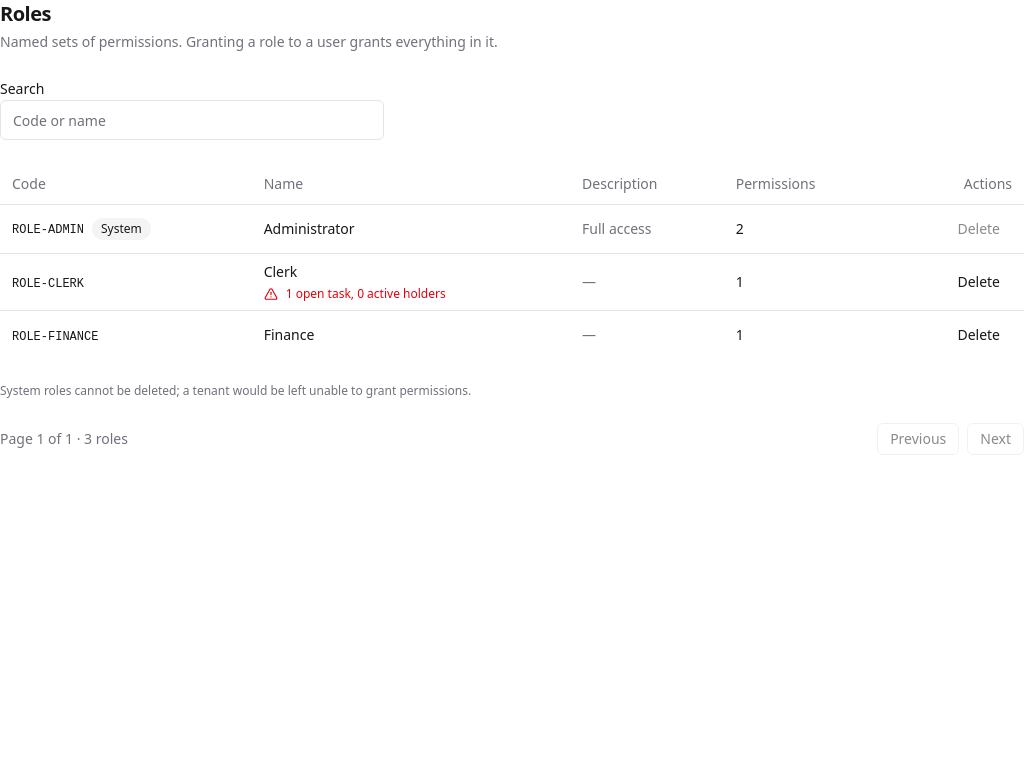
RoleListPage › a role nobody holds while open tasks need it (#508) › reads the roles again after a reassign, and the notice goes
The width and height of the screenshot is (1024, 768).
Click the button with test id "role-stranded-tasks-open" at (366, 294), box top-left (286, 286), bottom-right (446, 302)
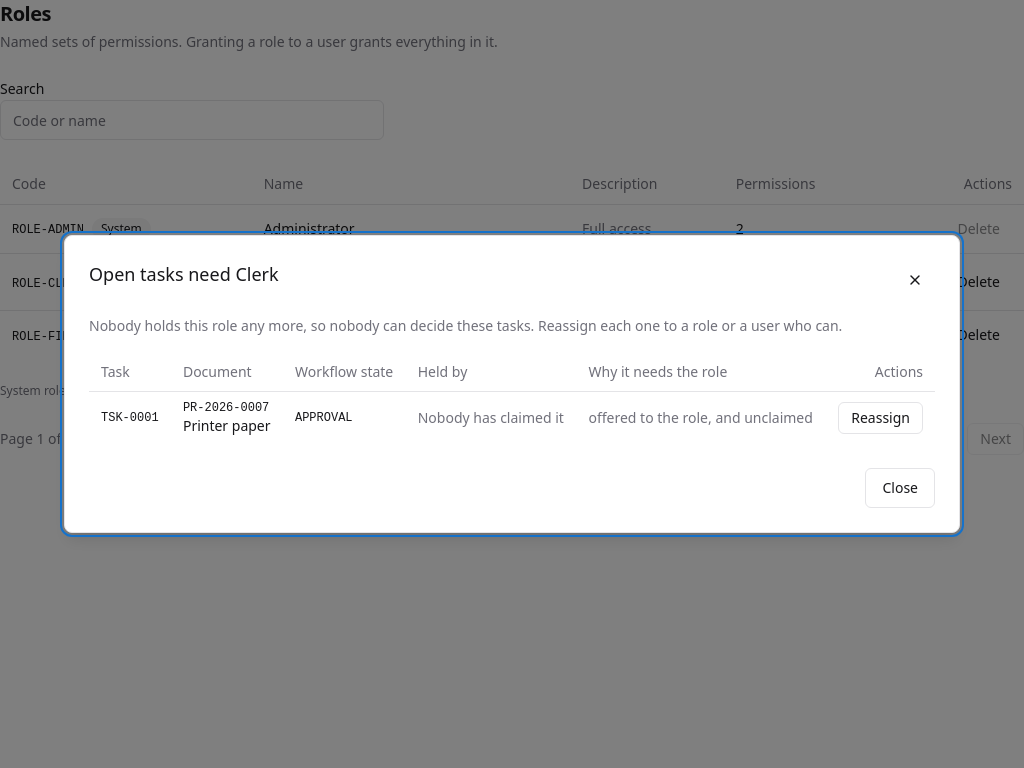
Click the button "Reassign" at (881, 418), box top-left (838, 402), bottom-right (923, 434)
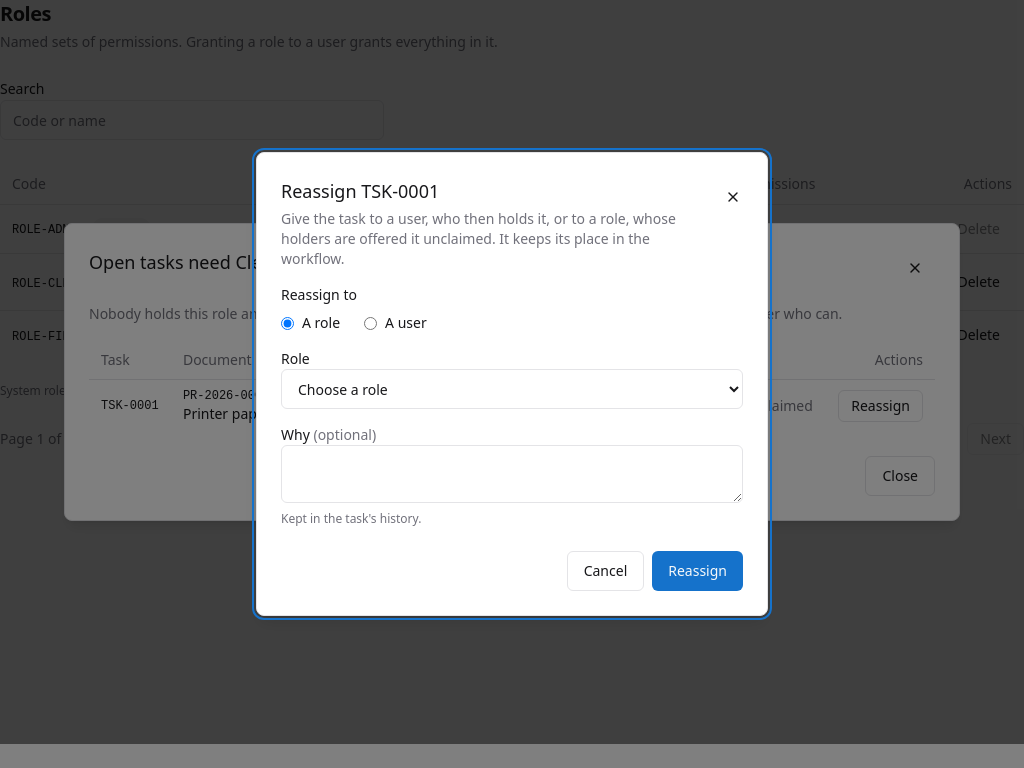
Select "Finance (ROLE-FINANCE)" in the dropdown with id "reassign-task-role" at (512, 389), box top-left (281, 369), bottom-right (743, 409)
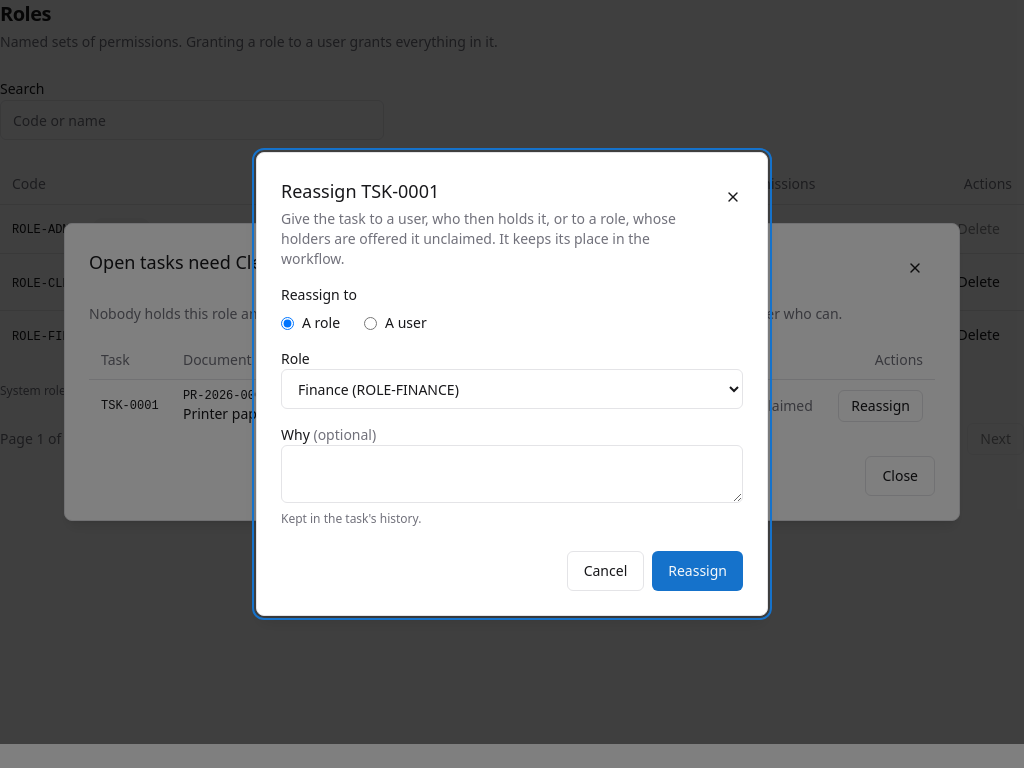
Submit the form, box top-left (281, 285), bottom-right (743, 527)
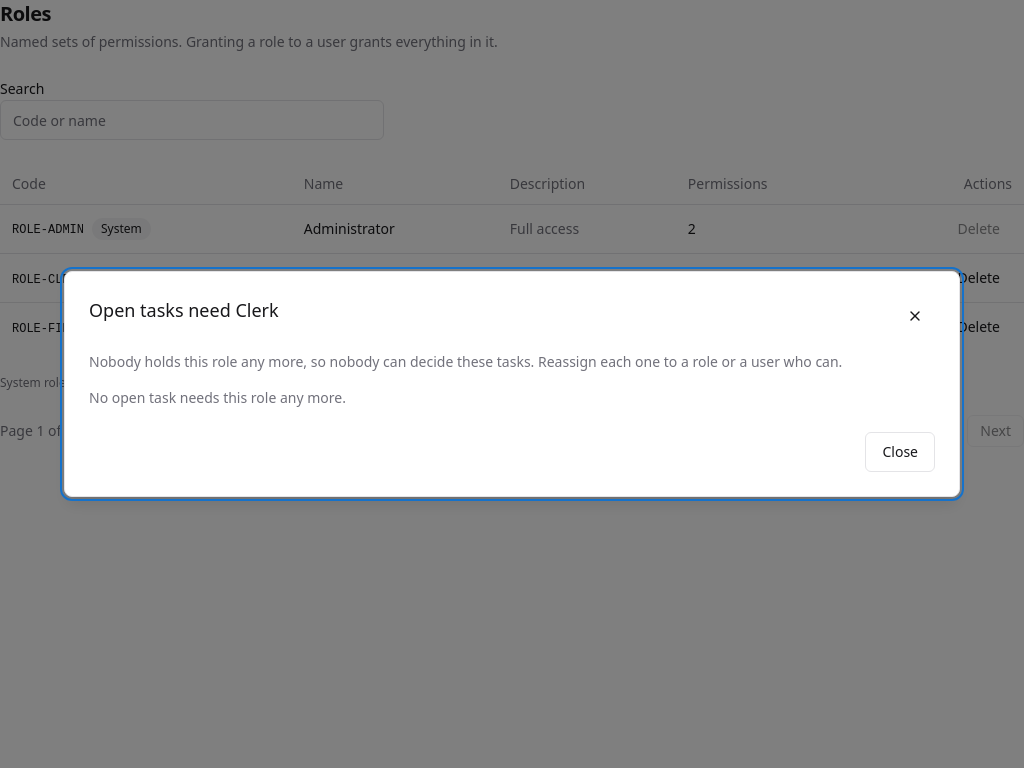
Check: no elements with test id "role-stranded-tasks" are shown
Check: the text with test id "role-open-tasks-empty" reads "No open task needs this role any more.", box top-left (89, 388), bottom-right (346, 407)
